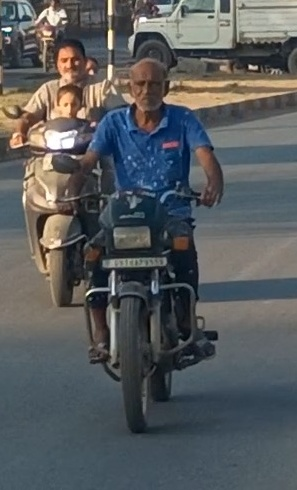BikeWithRider: (50, 55, 226, 435), (8, 36, 124, 309), (33, 0, 72, 73)
NoHelmet: (124, 56, 173, 114), (52, 37, 90, 81), (52, 81, 85, 120), (80, 54, 104, 82)
